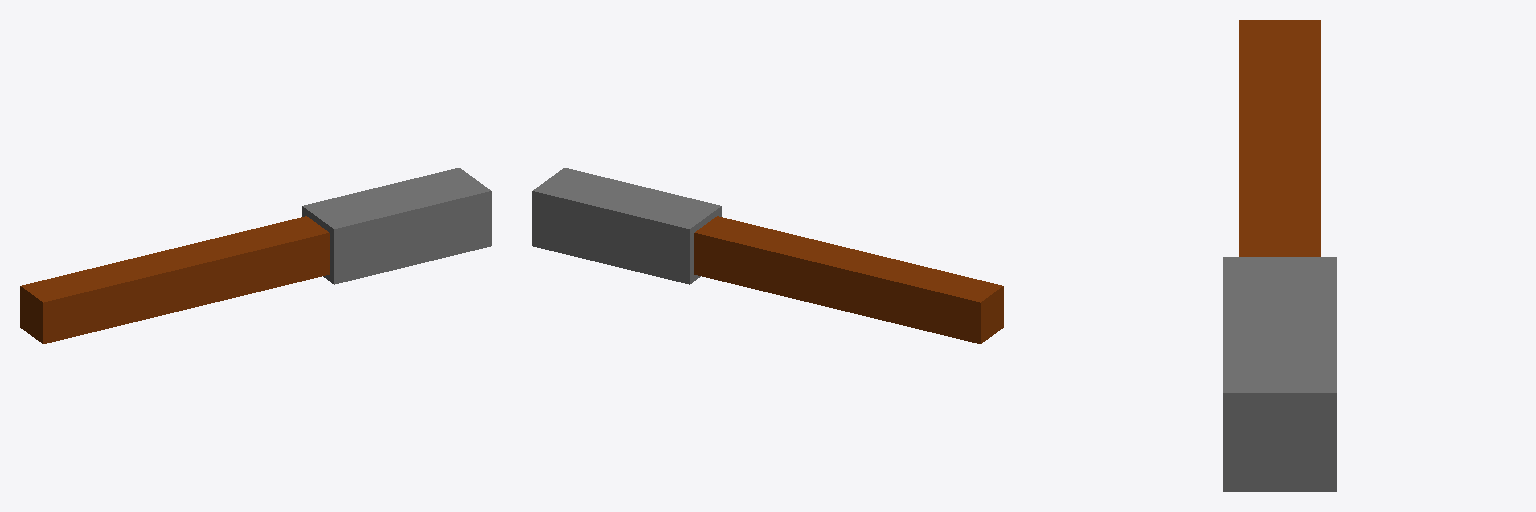
URDF robot description (handle_head):
<?xml version="1.0"?>
<robot name="handle_head">

  <link name="handle_head">
    <!-- Handle -->
    <visual>
              <origin xyz="0 0 0" rpy="0 0 0"/>
        <geometry>
          <box size="0.16189106952387652 0.022351674980620892 0.022669773840995153"/>
        </geometry>
        
      <material name="brown">
        <color rgba="0.55 0.27 0.07 1.0"/>
      </material>
    </visual>
    <collision>
              <origin xyz="0 0 0" rpy="0 0 0"/>
        <geometry>
          <box size="0.16189106952387652 0.022351674980620892 0.022669773840995153"/>
        </geometry>
        
    </collision>

    <!-- Head -->
    <visual>
              <origin xyz="0.1254453225309103 0 0" rpy="0 0 0"/>
        <geometry>
          <box size="0.0889995755379441 0.031353931095370734 0.02995930167617357"/>
        </geometry>
        
      <material name="gray">
        <color rgba="0.5 0.5 0.5 1.0"/>
      </material>
    </visual>
    <collision>
              <origin xyz="0.1254453225309103 0 0" rpy="0 0 0"/>
        <geometry>
          <box size="0.0889995755379441 0.031353931095370734 0.02995930167617357"/>
        </geometry>
        
    </collision>

    <inertial>
      <origin xyz="0.0545413614569763 0 0" rpy="0 0 0"/>
      <mass value="0.06373122364915196"/>
      <inertia ixx="7.384966971025019e-06" iyy="0.000347041035806893" izz="0.0003471954949691751" ixy="0" ixz="0" iyz="0"/>
    </inertial>
  </link>

</robot>

--- Render facts (derived) ---
3 views of the same robot in one strip: view 1: azimuth 30°, elevation 25°; view 2: azimuth 150°, elevation 25°; view 3: azimuth 270°, elevation 25° (orthographic).
Robot: handle_head — 1 links, 0 joints (none); root link handle_head; default pose: every joint at zero.
Visible links, largest first — view 1: handle_head; view 2: handle_head; view 3: handle_head.
Link boxes in pixels (<box>): handle_head: <box>20,168,491,343</box>; handle_head: <box>532,168,1003,343</box>; handle_head: <box>1223,20,1336,491</box>.
Bounding box of the posed robot: 0.2509 × 0.0314 × 0.03 m (x, y, z).
Geometry: primitives only (box / cylinder / sphere), no mesh files.
